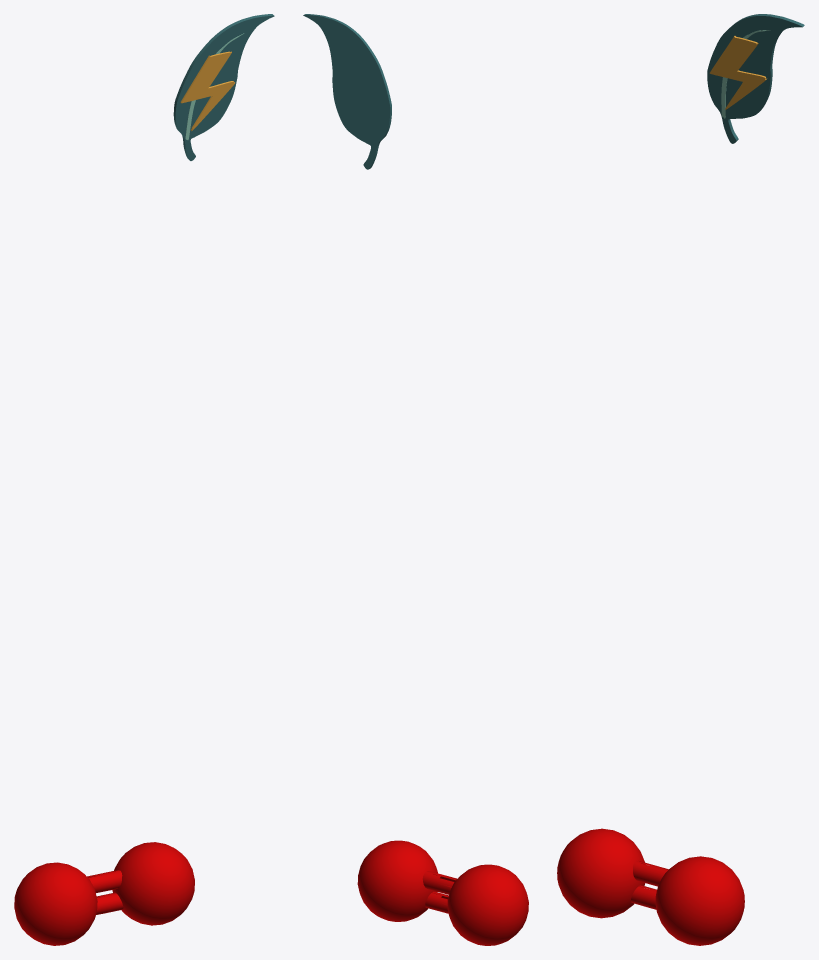
The picture shows the model from 3 angles, left to right: view 1: azimuth 30°, elevation 25°; view 2: azimuth 150°, elevation 25°; view 3: azimuth 330°, elevation 25°; orthographic projection. The views are drawn at different scales.
Visible parts, largest first — view 1: path182, path186; view 2: path182; view 3: path182, path186.
Boxes of the visible parts, left/top/right/bottom form: path182: left=173, top=14, right=274, bottom=160; path186: left=180, top=51, right=234, bottom=130; path182: left=303, top=14, right=391, bottom=169; path182: left=707, top=14, right=804, bottom=143; path186: left=709, top=36, right=766, bottom=109.
Size of the model in its own units: 1.51 by 5.37 by 0.4847.
